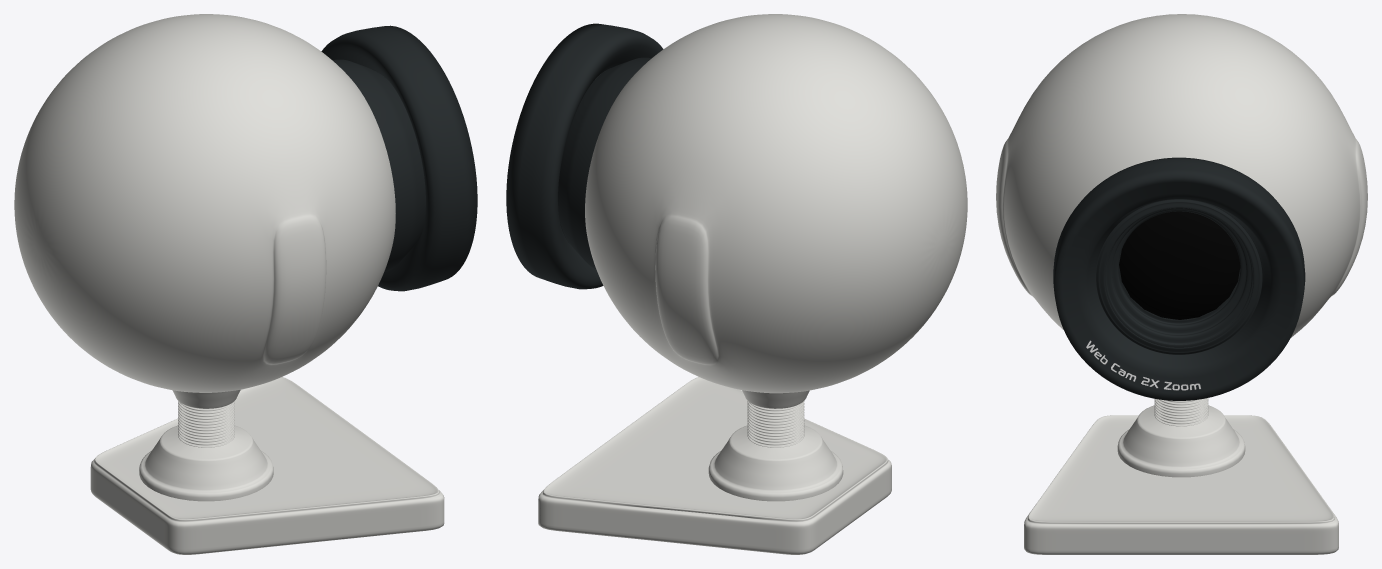
The model's file is webCam.fbx.
3 views of the same model, side by side, from view 1: azimuth 30°, elevation 25°; view 2: azimuth 150°, elevation 25°; view 3: azimuth 270°, elevation 25° (orthographic). The views are drawn at different scales.
Visible parts, largest first — view 1: webcam09_BOLA, webcam09_base, webcam09_foco1, webcam09_talon, webcam09_cuello, webcam09_bufanda; view 2: webcam09_BOLA, webcam09_base, webcam09_foco1, webcam09_talon, webcam09_cuello, webcam09_bufanda; view 3: webcam09_BOLA, webcam09_foco1, webcam09_base, webcam09_lente, webcam09_talon, webcam09_cuello.
Part boxes in pixels (x1,y1,x2,y2): webcam09_BOLA: (14,14,395,392); webcam09_base: (90,377,444,554); webcam09_foco1: (321,25,477,291); webcam09_talon: (139,425,273,501); webcam09_cuello: (178,401,234,447); webcam09_bufanda: (172,389,240,408); webcam09_BOLA: (585,14,967,393); webcam09_base: (538,377,891,554); webcam09_foco1: (506,23,663,289); webcam09_talon: (708,425,843,501); webcam09_cuello: (747,401,804,447); webcam09_bufanda: (742,390,809,408); webcam09_BOLA: (996,14,1367,337); webcam09_foco1: (1053,157,1305,400); webcam09_base: (1024,415,1338,554); webcam09_lente: (1119,211,1240,319); webcam09_talon: (1117,405,1245,477); webcam09_cuello: (1154,398,1208,426).
Size of what is drawn, in the model's own units: 9.62 by 11.74 by 8.75.
Materials: 4 (1 with a texture image).
